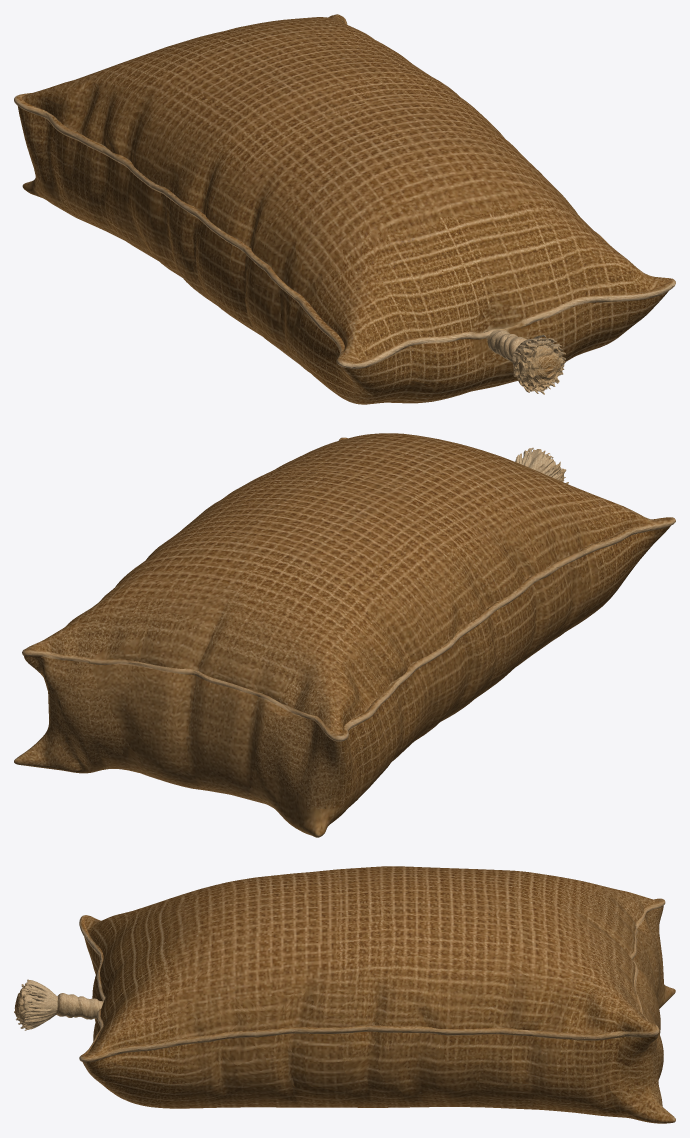
File: sandbag_nest.glb
3 views of the same model, one above another, from view 1: azimuth 30°, elevation 25°; view 2: azimuth 150°, elevation 25°; view 3: azimuth 270°, elevation 25° (orthographic). The views are drawn at different scales.
Bounding box in the file's own units: 0.9778 × 0.574 × 1.9.
Materials: 1 (1 with a texture image).
